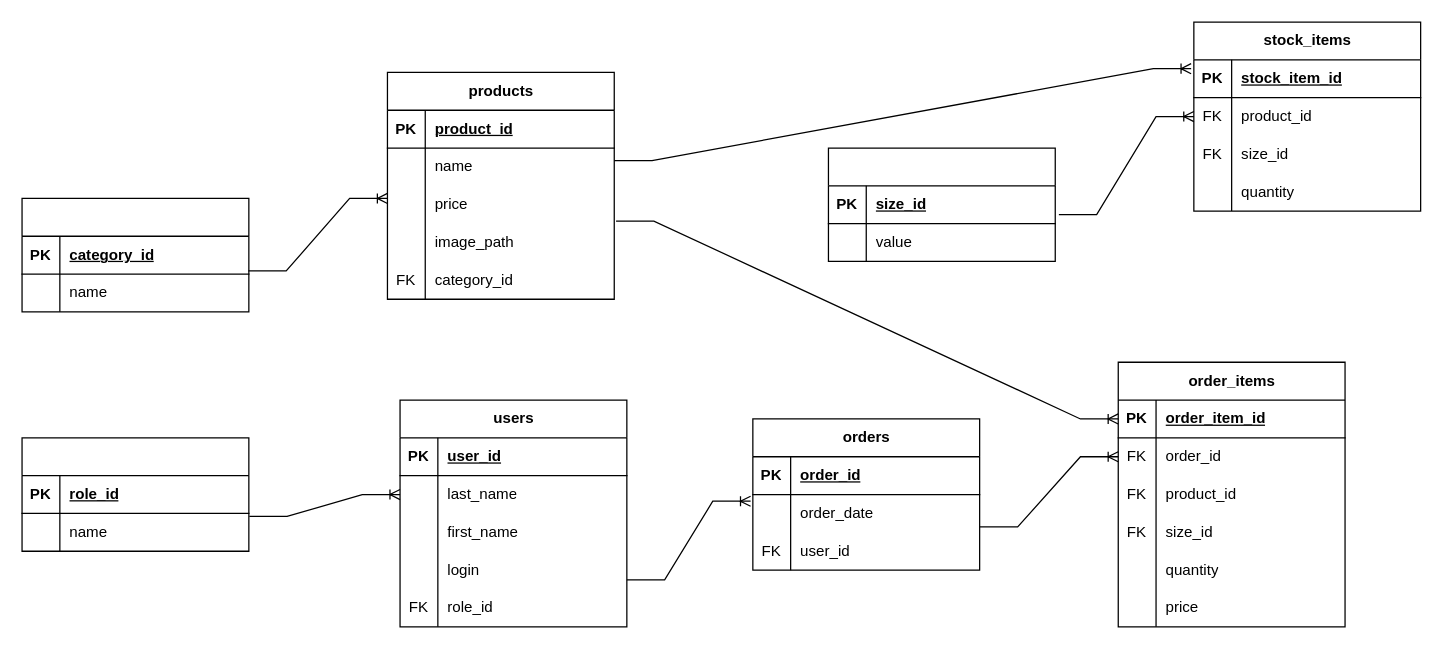
This 1443x649 diagram has some shape labels left out. Here are the shapes that lost their labels. From the top down, the box of each, then its label:
(827, 147, 1055, 261): sizes
(21, 197, 249, 312): categories
(21, 437, 249, 551): roles
